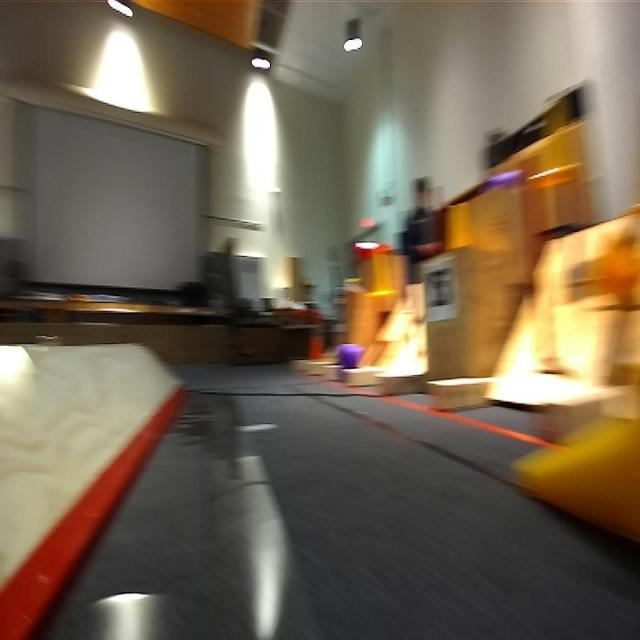frc_cone: (515, 404, 640, 542), (527, 92, 580, 182), (602, 230, 640, 311), (446, 202, 474, 248), (367, 251, 394, 297)
frc_cube: (485, 170, 523, 189), (338, 341, 363, 366)
